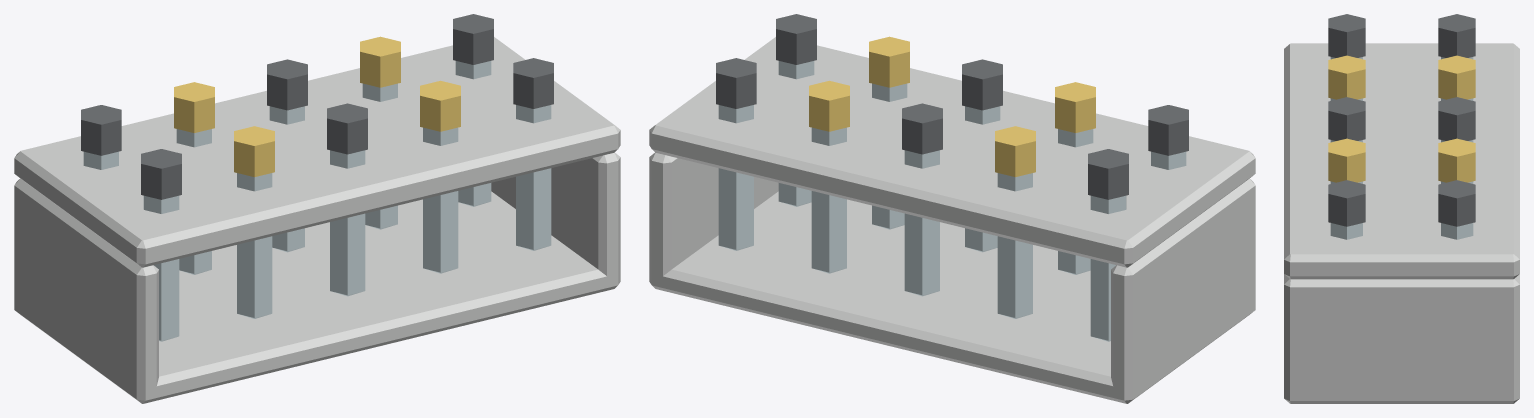
File: clinic-and-veterinary-practice-sample-rack-858cc062__16803.glb
3 renders of one model, left to right at view 1: azimuth 30°, elevation 25°; view 2: azimuth 150°, elevation 25°; view 3: azimuth 270°, elevation 25°, orthographic. The views are drawn at different scales.
Visible parts, largest first — view 1: sample-rack; view 2: sample-rack; view 3: sample-rack.
Boxes of the visible parts, bbox=[...] form: sample-rack: bbox=[14, 14, 620, 403]; sample-rack: bbox=[649, 14, 1255, 403]; sample-rack: bbox=[1284, 14, 1519, 403].
Size of the model in its own units: 0.26 by 0.108 by 0.12.
